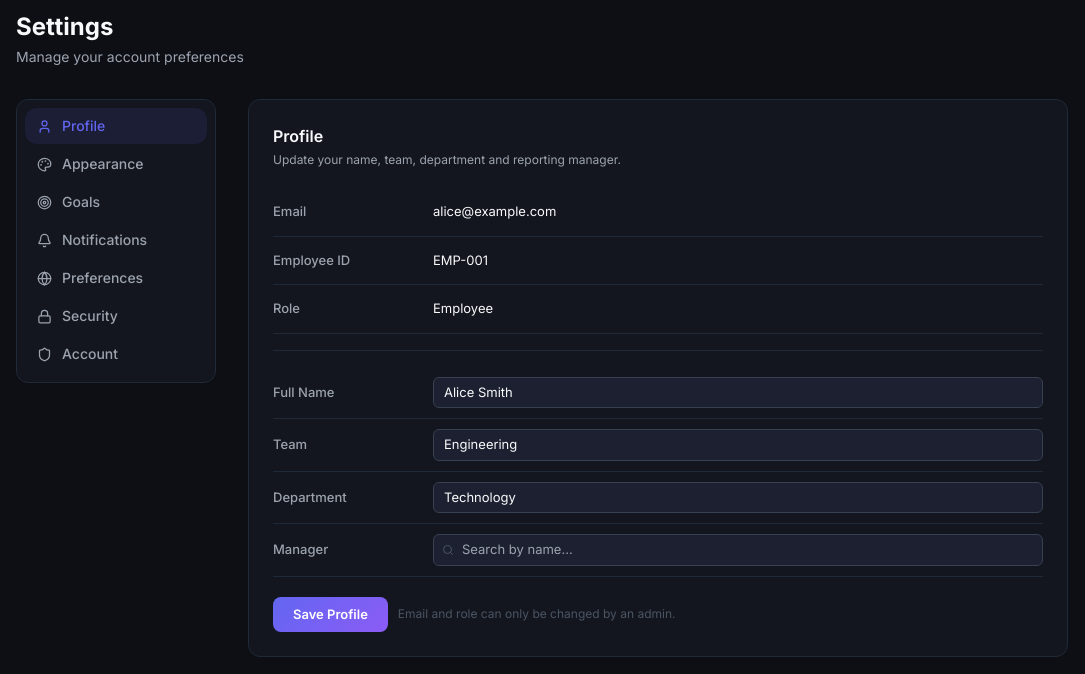
Scenario: SettingsPage — Preferences section › navigates to Preferences section on click
Click the button "Preferences": point(116, 278) [25,260,207,296]
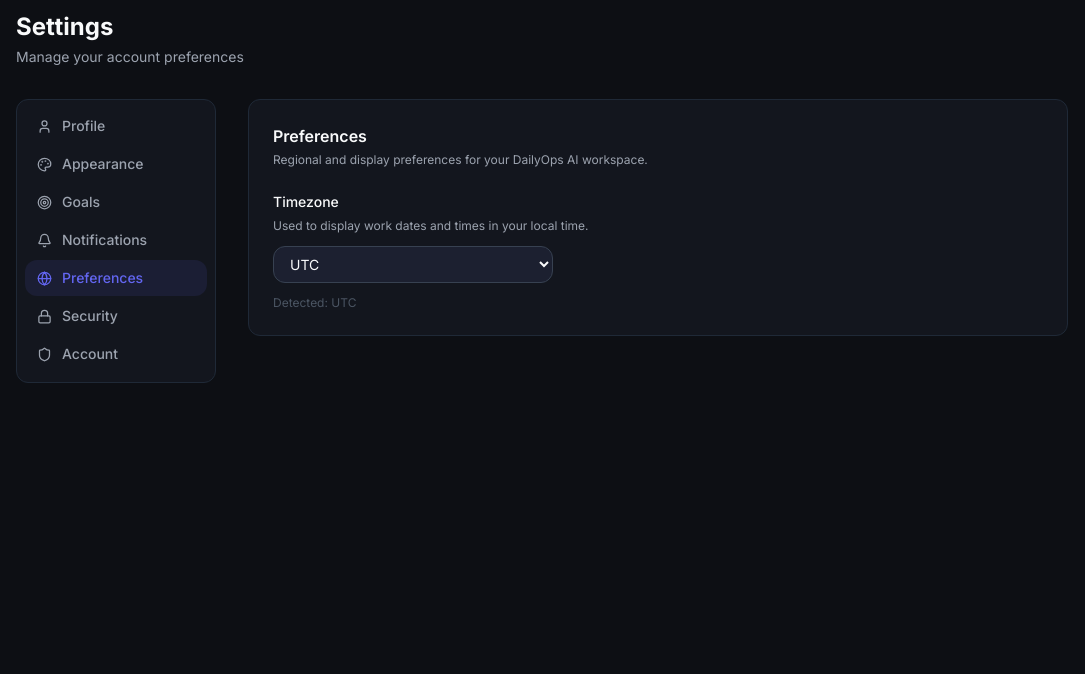
Now the text "Timezone" is shown, box [273,193,339,210]
